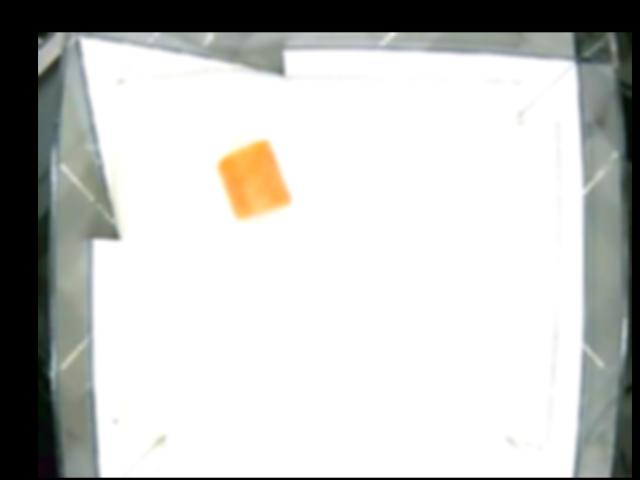Carrot: (218, 139, 292, 222)
